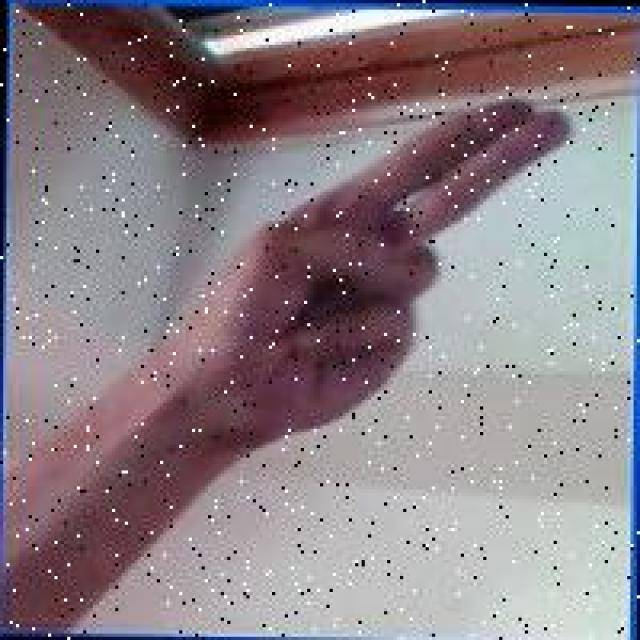H: (168, 88, 574, 478)
